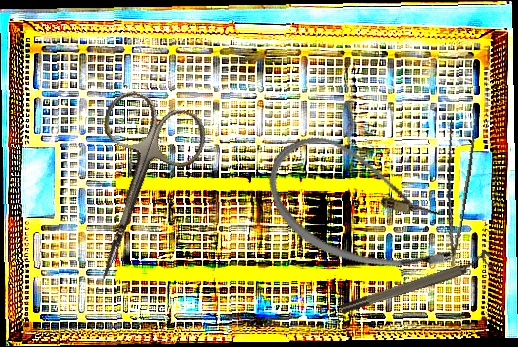Cannula: (252, 123, 475, 291)
Fixation Ring: (337, 249, 495, 317)
Iris Scissors: (51, 85, 215, 299)
Tissue Forceps: (426, 111, 481, 267)
